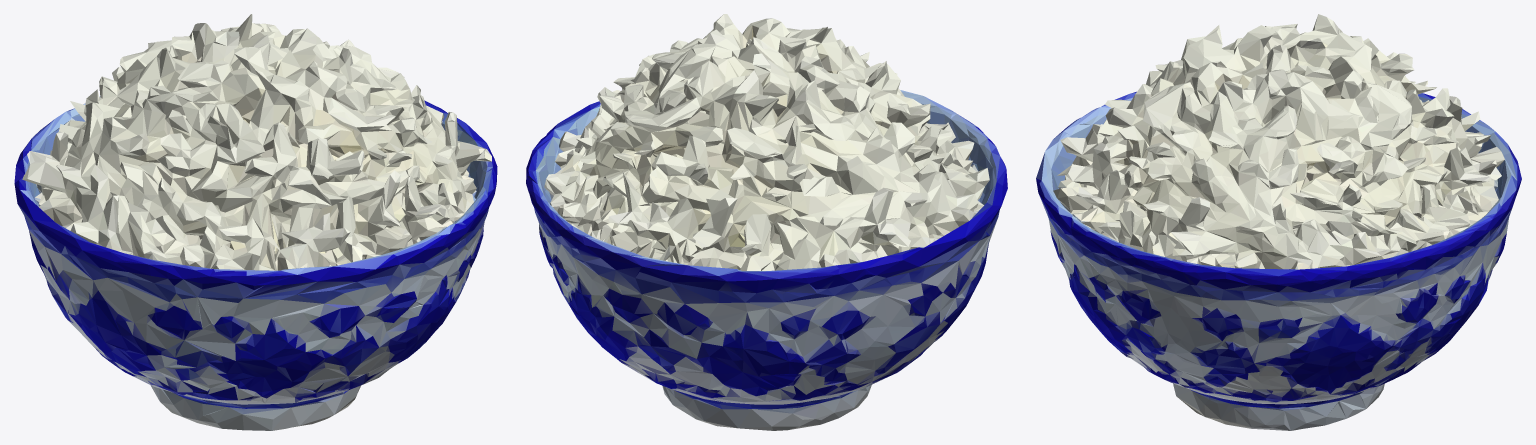
Rendered from rice_bowl.glb.
3 renders of one model, left to right at view 1: azimuth 30°, elevation 25°; view 2: azimuth 150°, elevation 25°; view 3: azimuth 270°, elevation 25°, orthographic.
Visible parts, largest first — view 1: geometry_0; view 2: geometry_0; view 3: geometry_0.
Boxes of the visible parts, left/top/right/bottom form: geometry_0: left=14, top=14, right=497, bottom=430; geometry_0: left=526, top=14, right=1007, bottom=430; geometry_0: left=1036, top=14, right=1521, bottom=430.
Size of the model in its own units: 0.1297 by 0.1037 by 0.13.
Materials: 1 (1 with a texture image).
